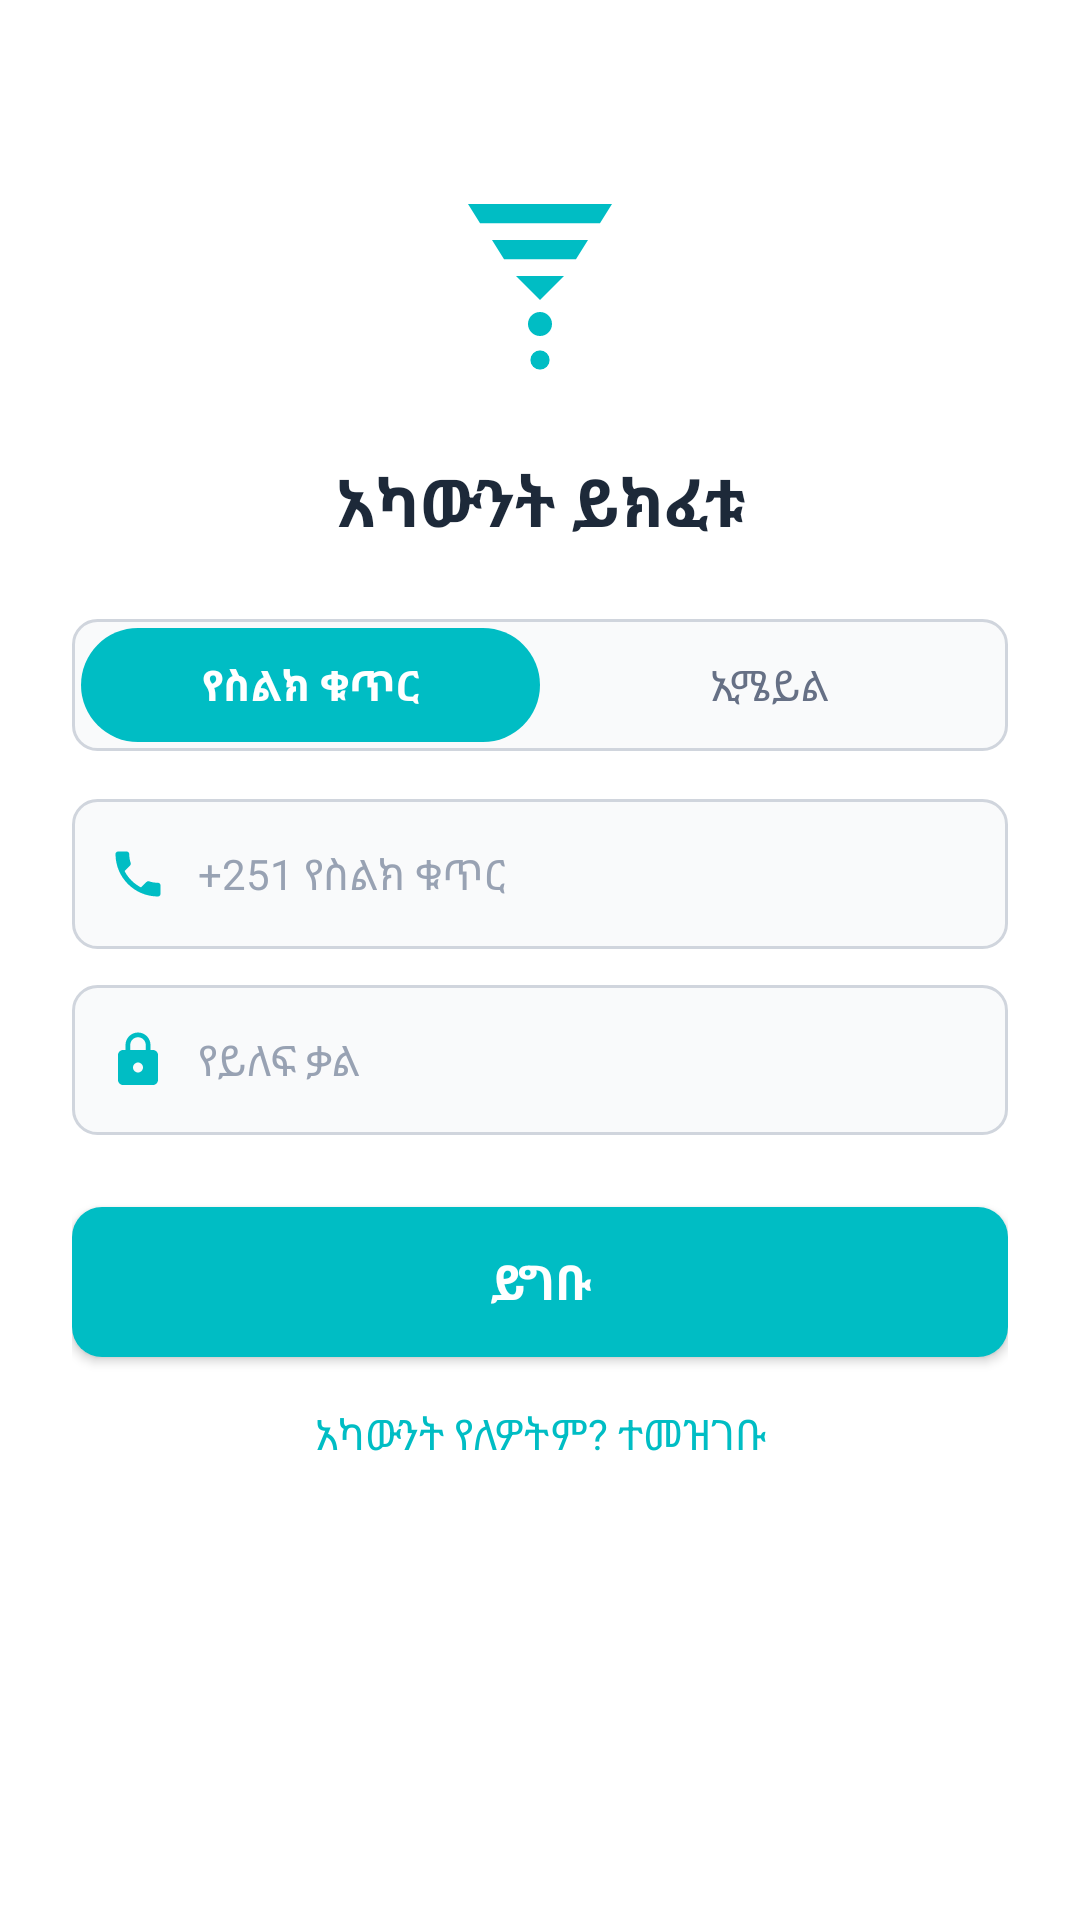

Named icons in this screenshot (1080px×1920px) and their bounding boxes, (x1, y1, x2, y2):
Lock Icon: (118, 1032, 158, 1085)
Phone Icon: (115, 851, 161, 897)
